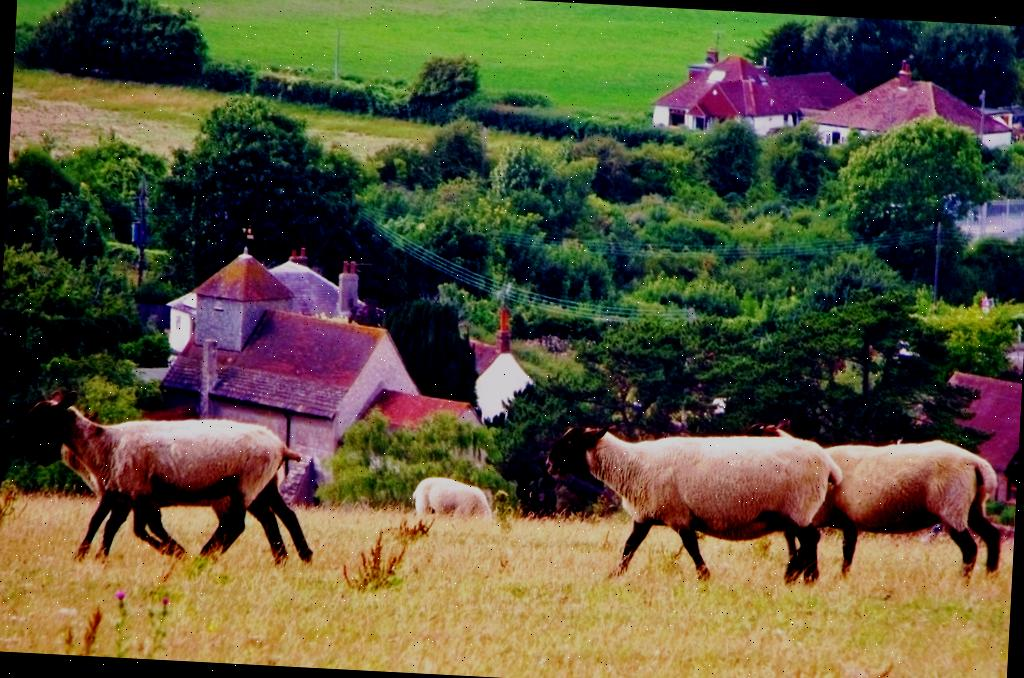Sheep: (0, 379, 326, 566), (532, 420, 856, 595), (716, 412, 1000, 591), (399, 478, 493, 526)
